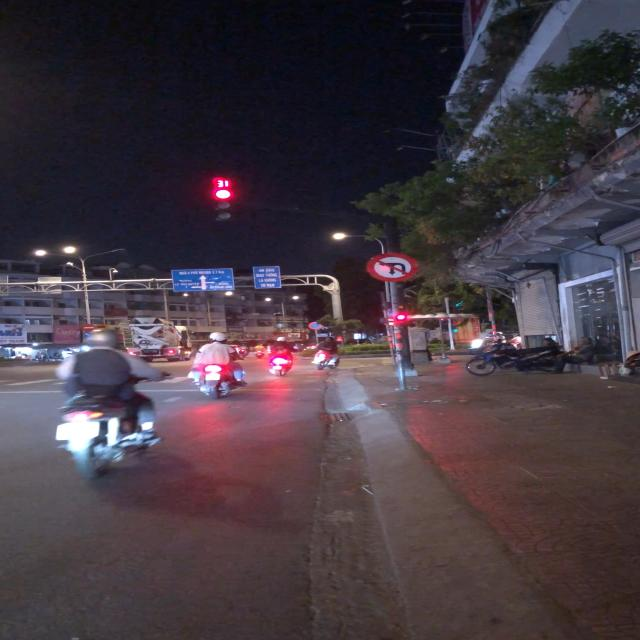Bien bao cam re trai va quay dau: (364, 252, 421, 282)
